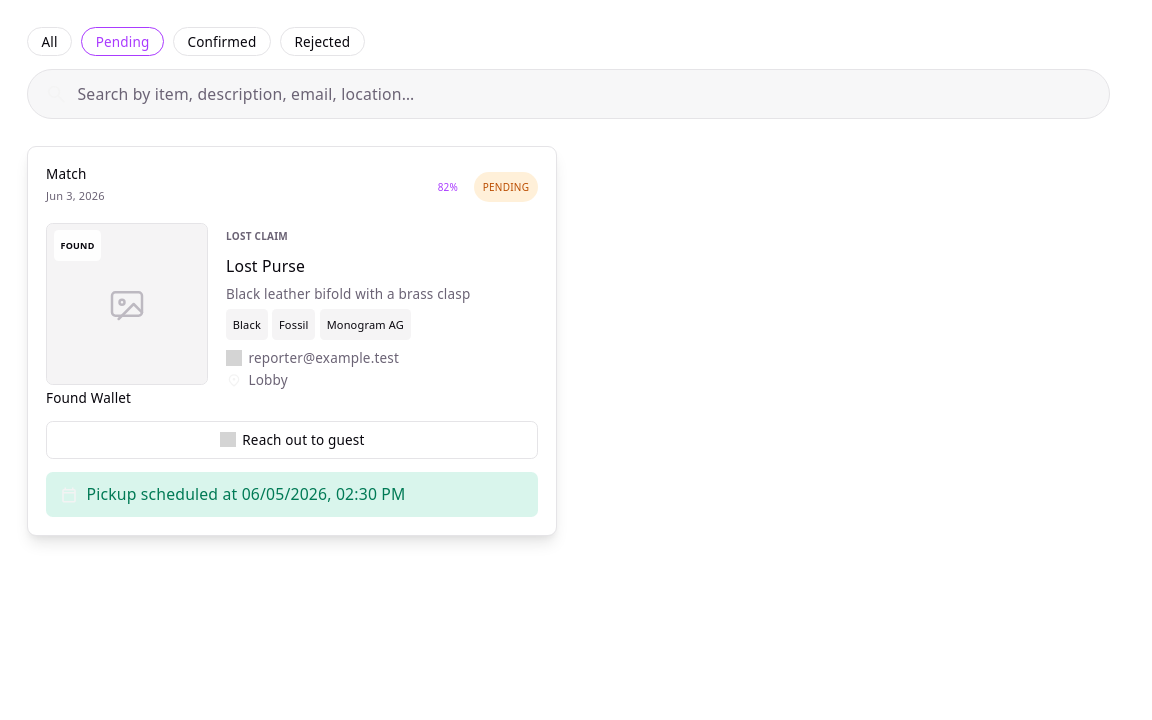
Scenario: <Matching /> › renders enriched lost↔found labels for each match
Click the tab "All": point(50, 42) x1=27 y1=27 x2=72 y2=56
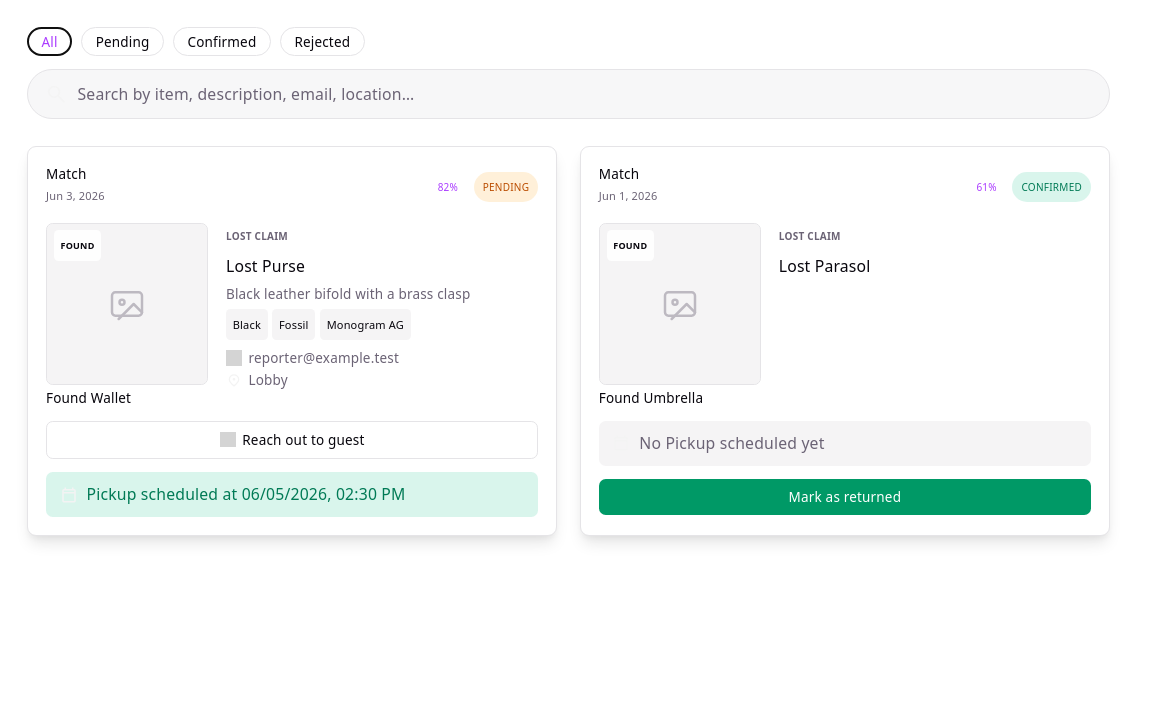
expect the text "Found Wallet" is shown: met, box x1=46 y1=389 x2=131 y2=407
expect the text "Found Umbrella" is shown: met, box x1=599 y1=389 x2=703 y2=407
expect the text "Lost Parasol" is shown: met, box x1=779 y1=255 x2=871 y2=277
